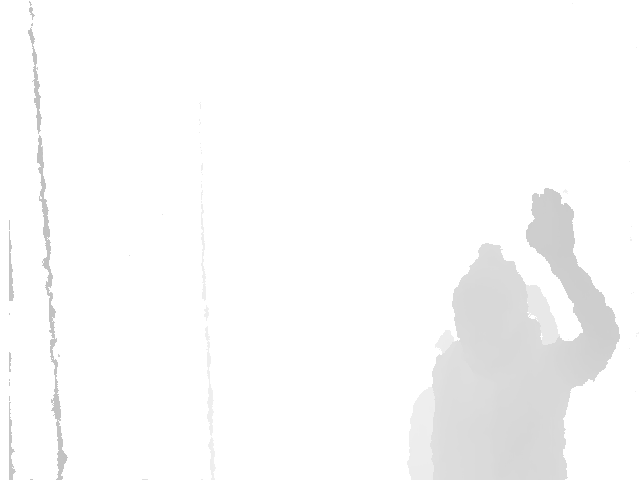hand: (524, 187, 576, 258)
head: (453, 244, 531, 363)
person: (429, 187, 621, 480)
